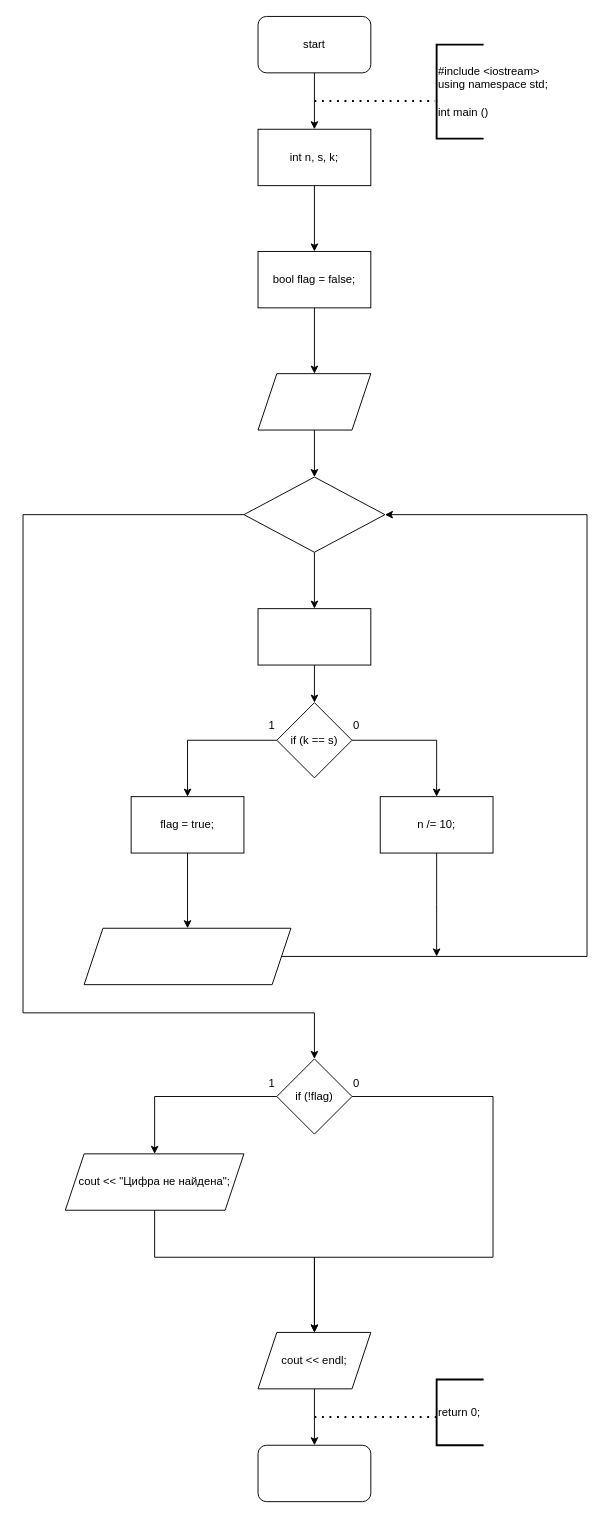
Image size: 611x1518. Some labels were removed from this diagram. Each missing label, with the centre of its shape:
cin >> n >> s;: point 314,401
cout << "Цифра найдена" << endl;: point 187,956
end: point 314,1473
k = n % 10;: point 314,636
while (n > 0 && !flag): point 314,514
